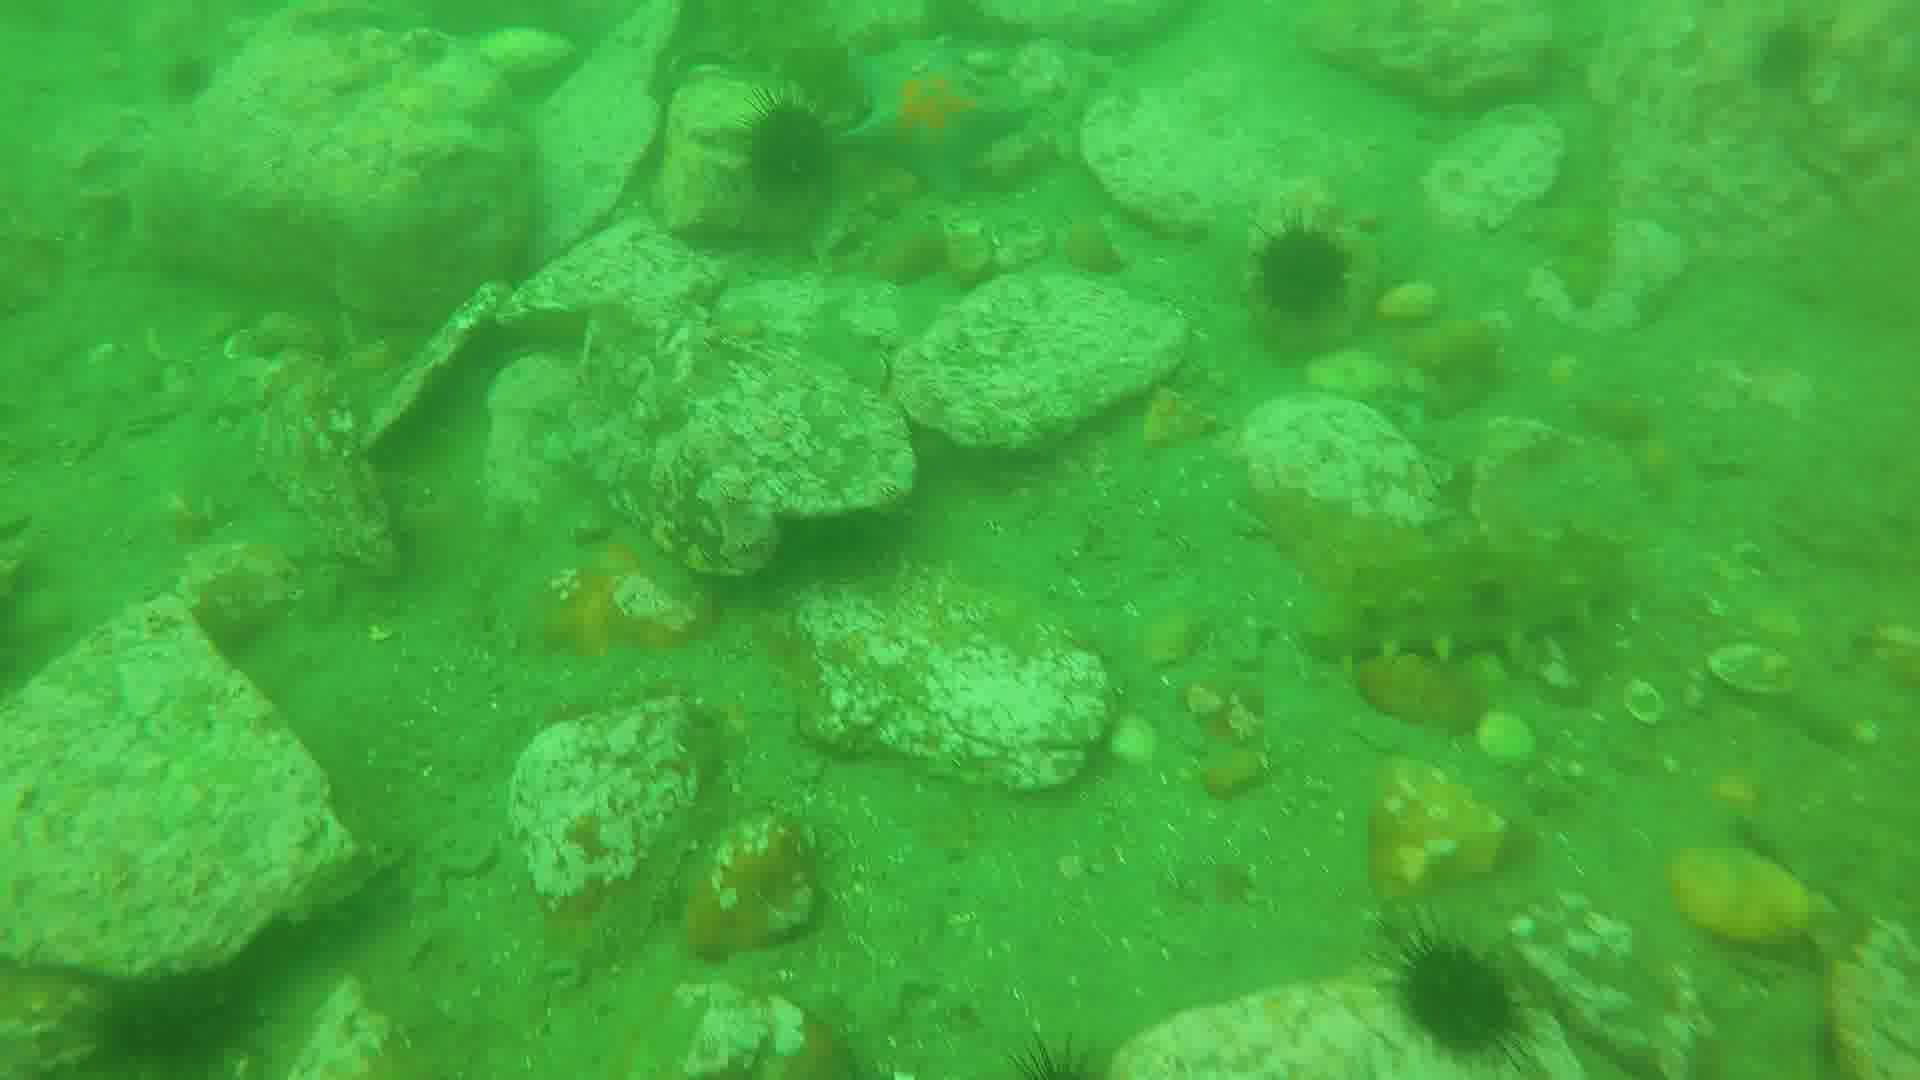echinus: (1387, 924, 1526, 1058), (90, 967, 245, 1080), (1254, 208, 1354, 316), (745, 104, 837, 211), (1766, 21, 1820, 98)
holothurian: (1307, 531, 1627, 666)
starfish: (845, 47, 1036, 193)
